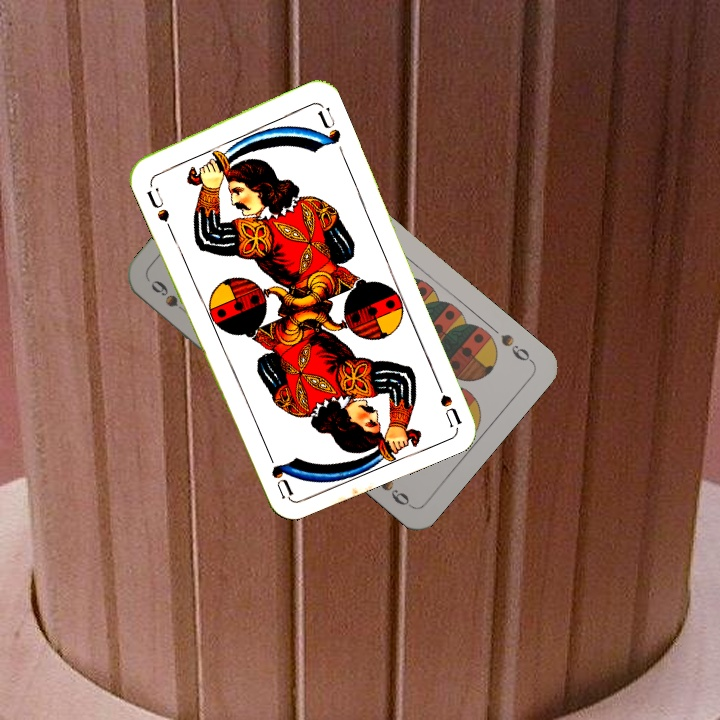S9: (146, 276, 193, 320), (497, 330, 536, 366)
SU: (429, 370, 464, 428), (142, 176, 174, 233)
